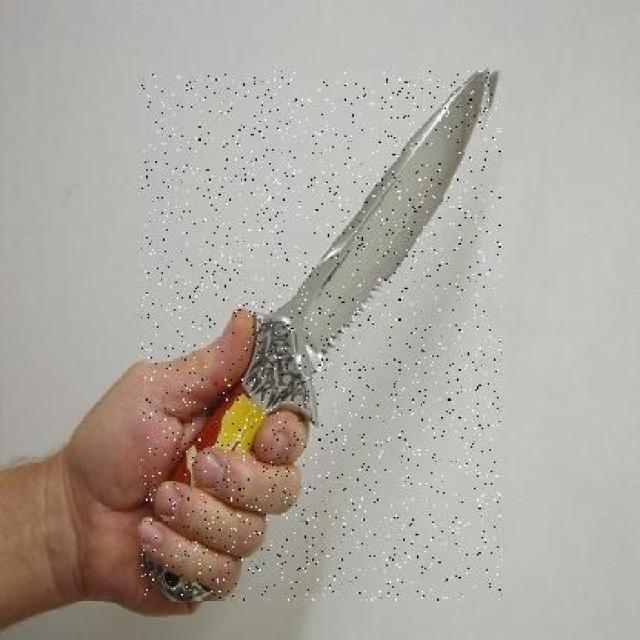knife: (140, 71, 502, 600)
